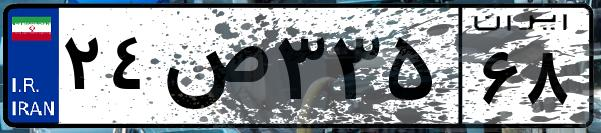2: (57, 26, 110, 100)
3: (270, 28, 330, 110), (330, 28, 385, 110)
4: (110, 28, 158, 98)
5: (385, 28, 445, 110)
6: (475, 38, 525, 113)
8: (525, 38, 570, 115)
ص: (158, 20, 270, 120)
